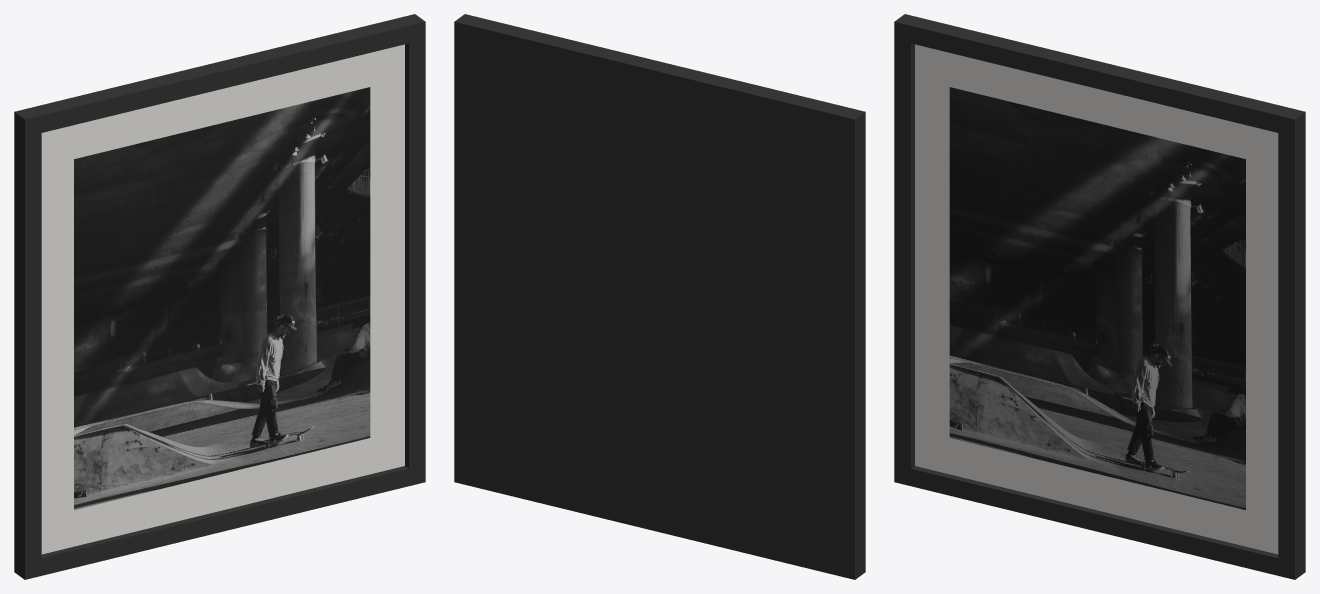
File: ljusstrimman-40.gltf
3 views of the same model, side by side, from view 1: azimuth 30°, elevation 25°; view 2: azimuth 150°, elevation 25°; view 3: azimuth 330°, elevation 25° (orthographic).
Parts seen in each view (by area): view 1: tavla; view 2: tavla; view 3: tavla.
Part boxes in pixels (x1=…): tavla: x1=14, y1=14, x2=425, y2=579; tavla: x1=454, y1=14, x2=865, y2=579; tavla: x1=894, y1=14, x2=1305, y2=579.
Bounding box in the file's own units: 0.4781 × 0.5248 × 0.022.
3 materials, 1 textured.
